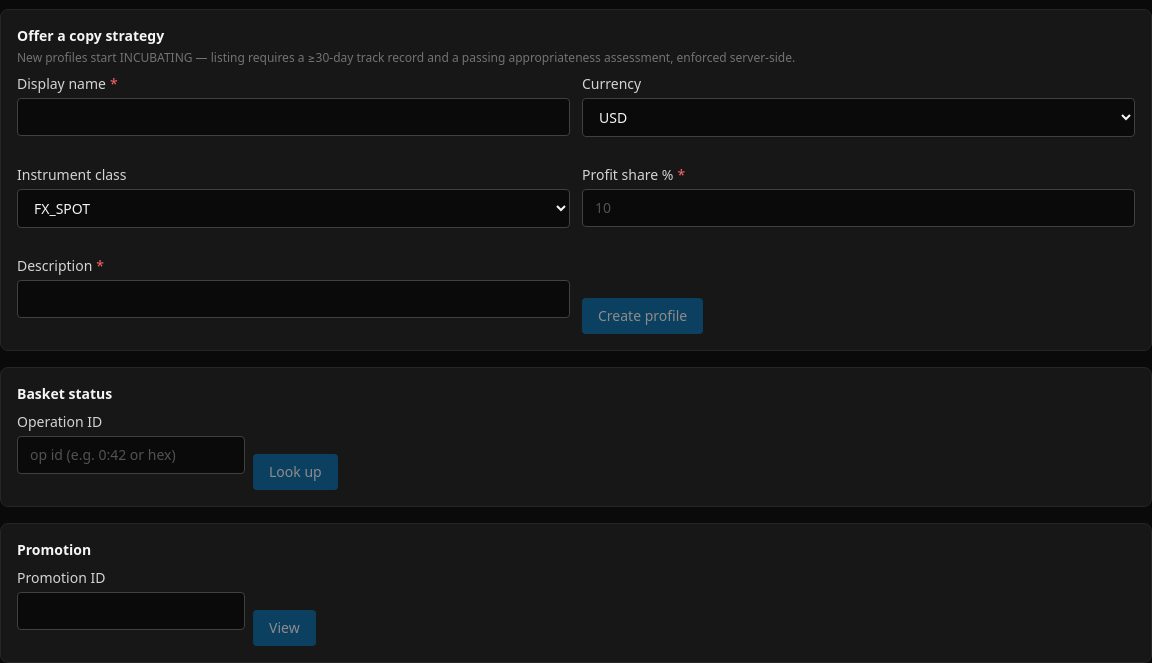
MarketplacePanel › looks up a basket op and renders leg statuses
(page scrolled)
Type "op-42" into the field labelled "Operation ID" at x=131, y=455, box [17,436,245,474]
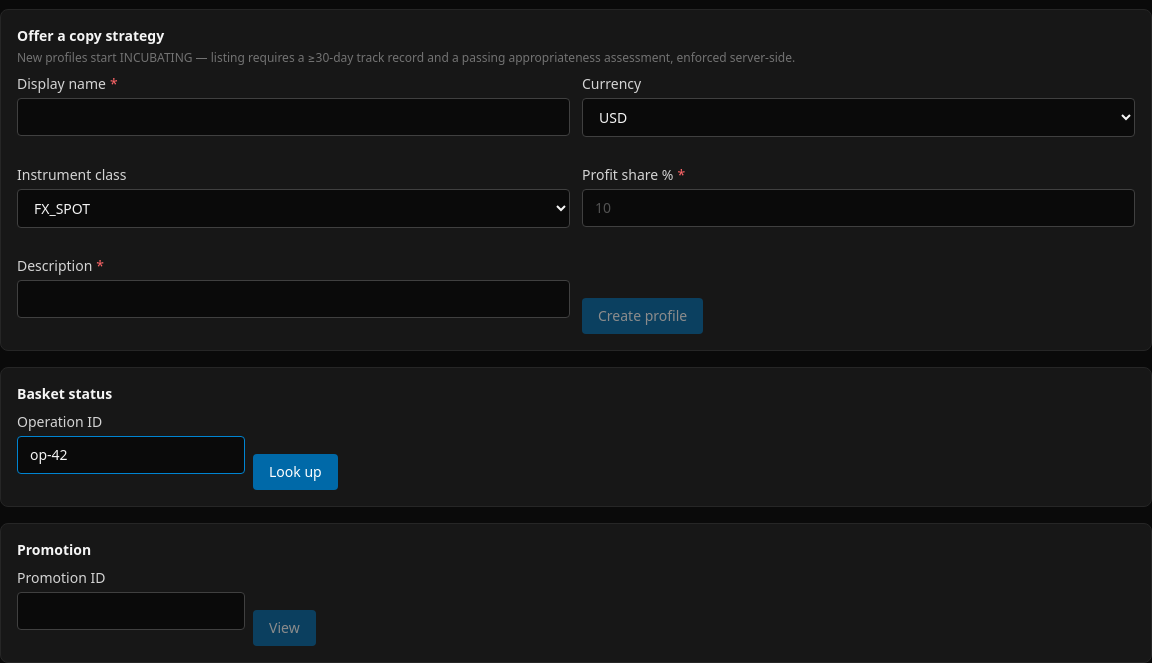
Click the button "Look up" at x=295, y=472, box [253,454,338,490]
(page scrolled)
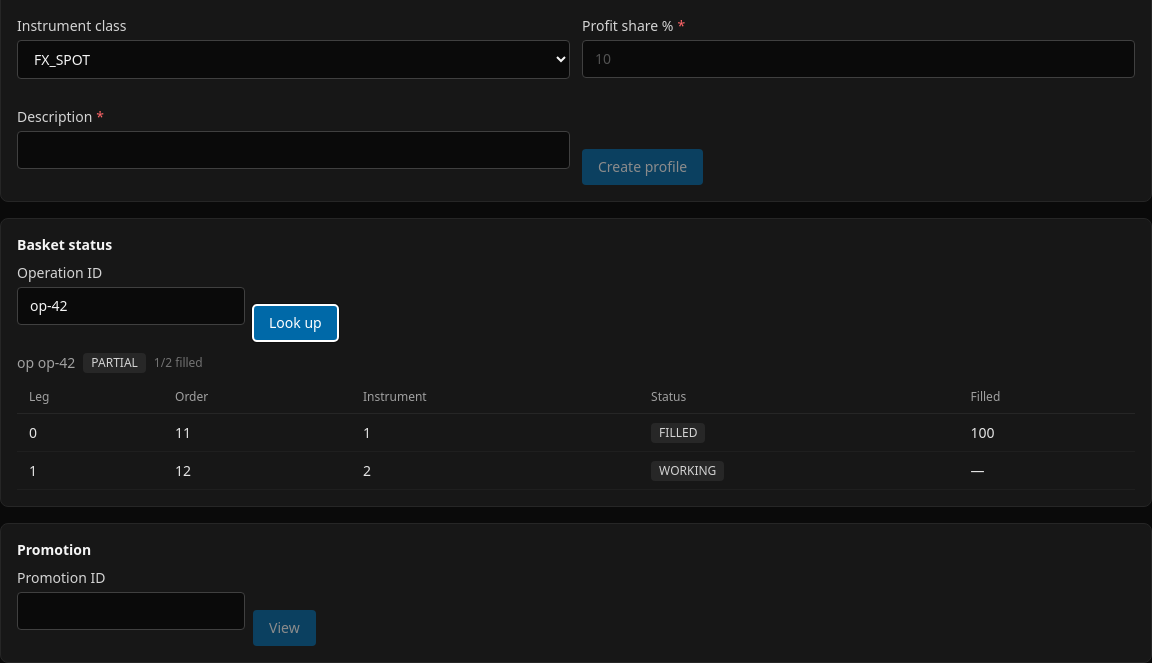
Now the text "1/2 filled" is shown, box [154,355,203,371]
Now the text "FILLED" is shown, box [651,423,705,443]
Type "7" into the field labelled "Promotion ID" at x=131, y=611, box [17,592,245,630]
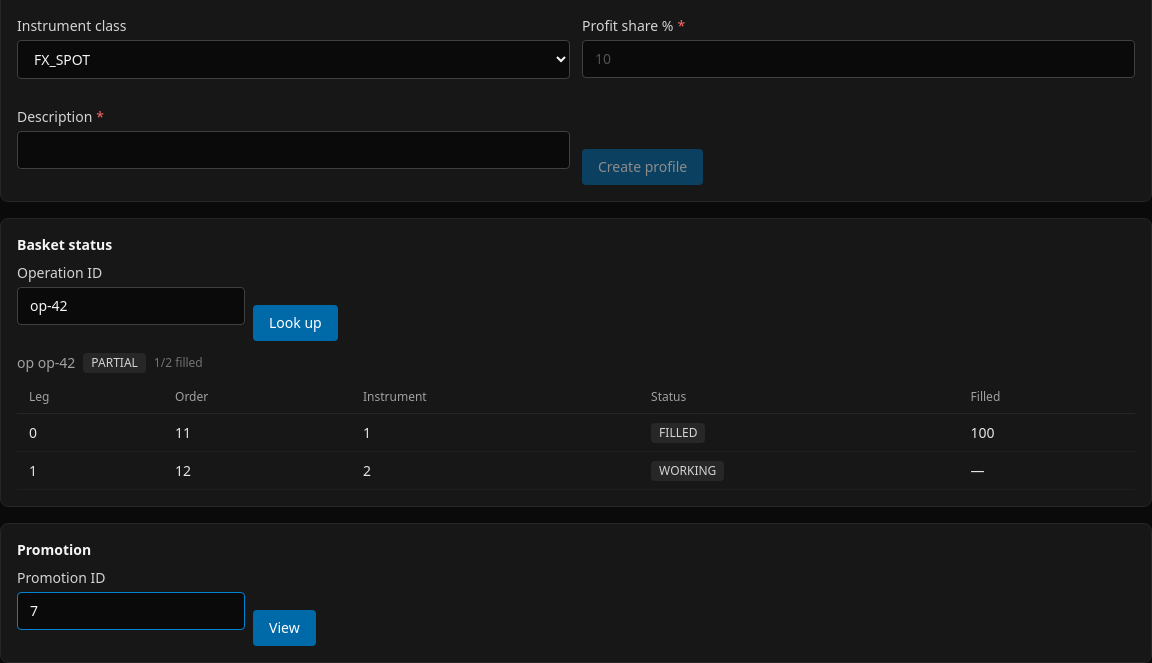
Click the button "View" at x=284, y=628, box [253,610,316,646]
(page scrolled)
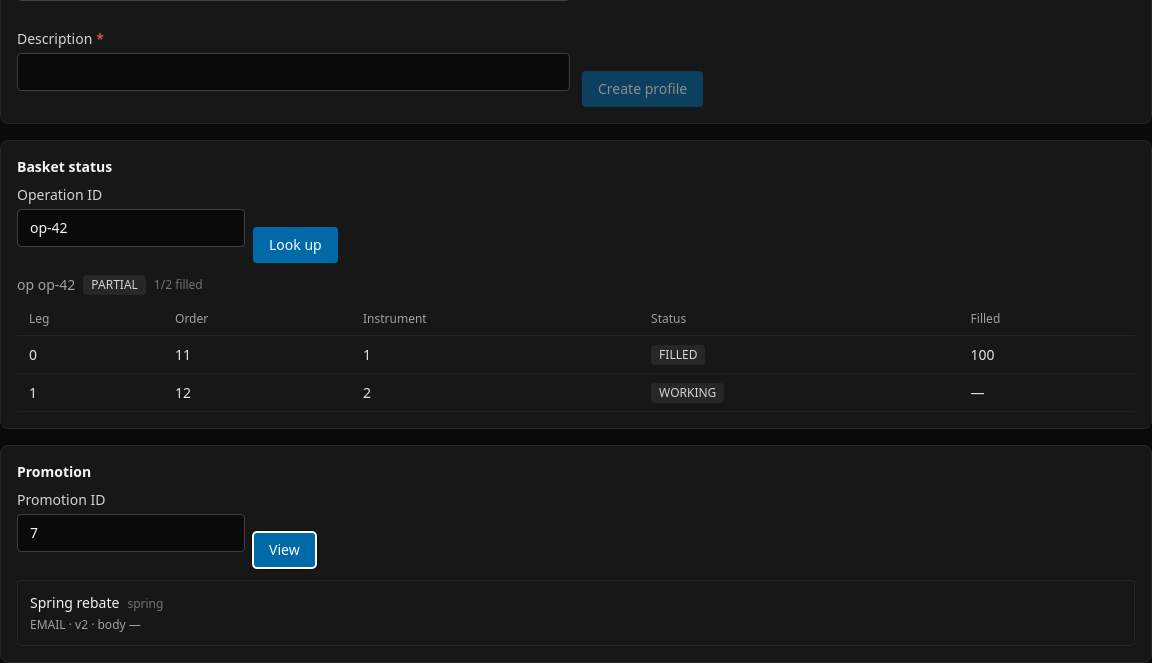
Now the text "Spring rebate" is shown, box [30,593,119,612]
